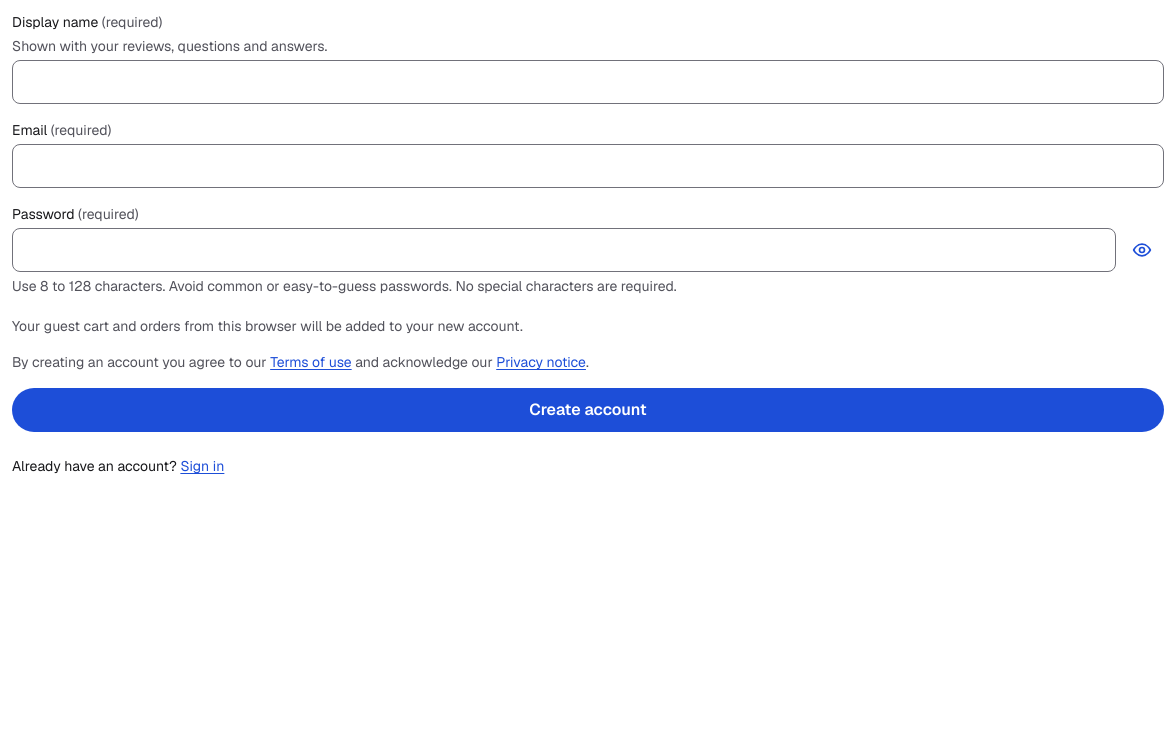
Test: SignUpForm interactions › TOO_MANY_ATTEMPTS shows the R-10 text
The image size is (1176, 732).
Step 1. Type "Ada" into the field labelled "Display name (required)" → [588, 82], box [12, 60, 1164, 104]
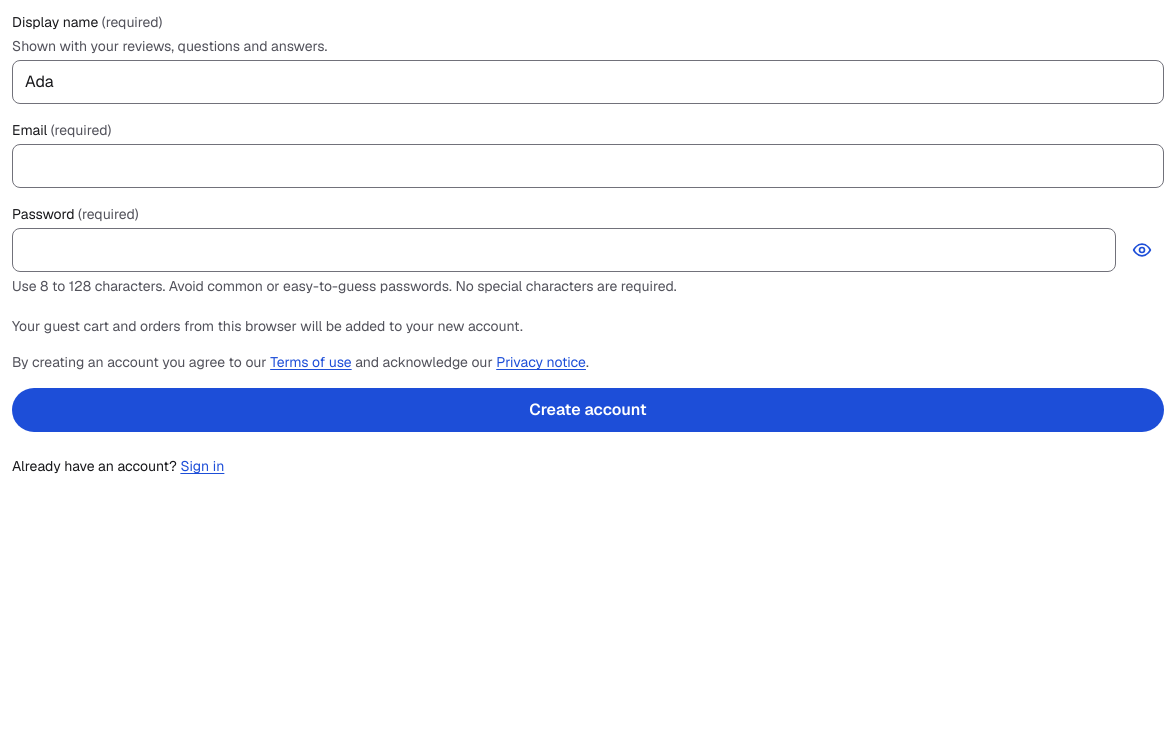
Step 2. Type "ada@example.com" into the field labelled "Email (required)" → [588, 166], box [12, 144, 1164, 188]
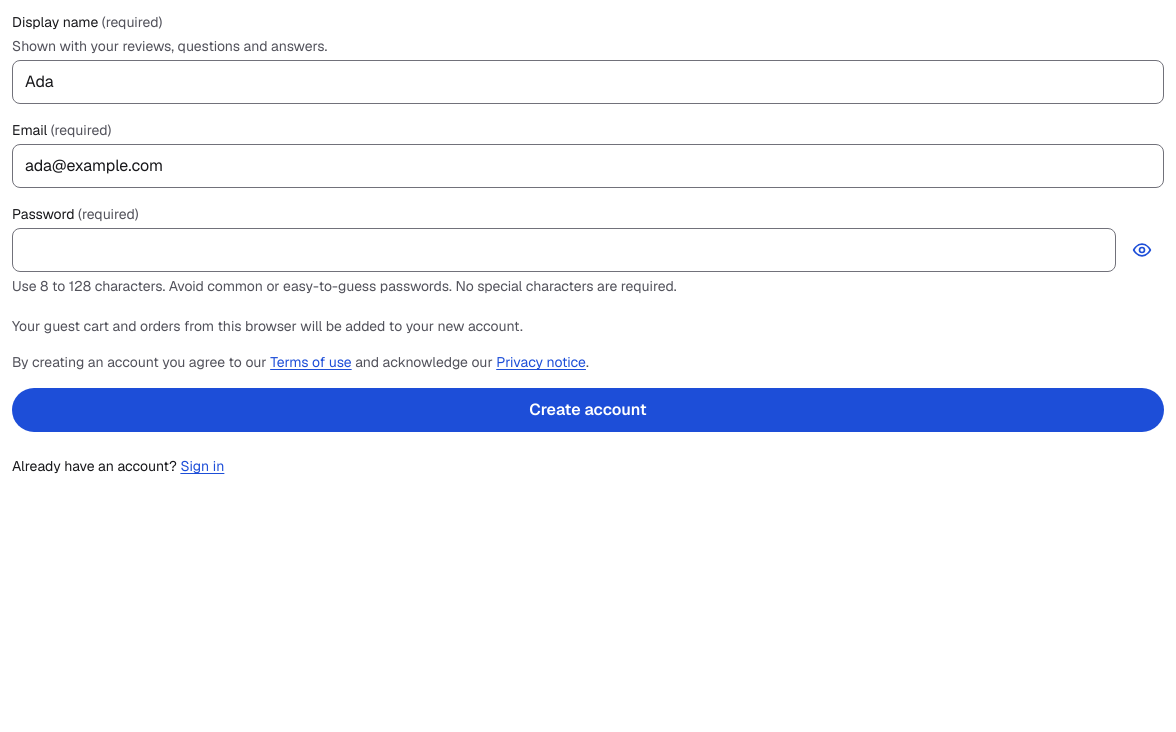
Step 3. Type "quiet birch lantern" into the password field labelled "Password (required)" → [564, 250], box [12, 228, 1116, 272]
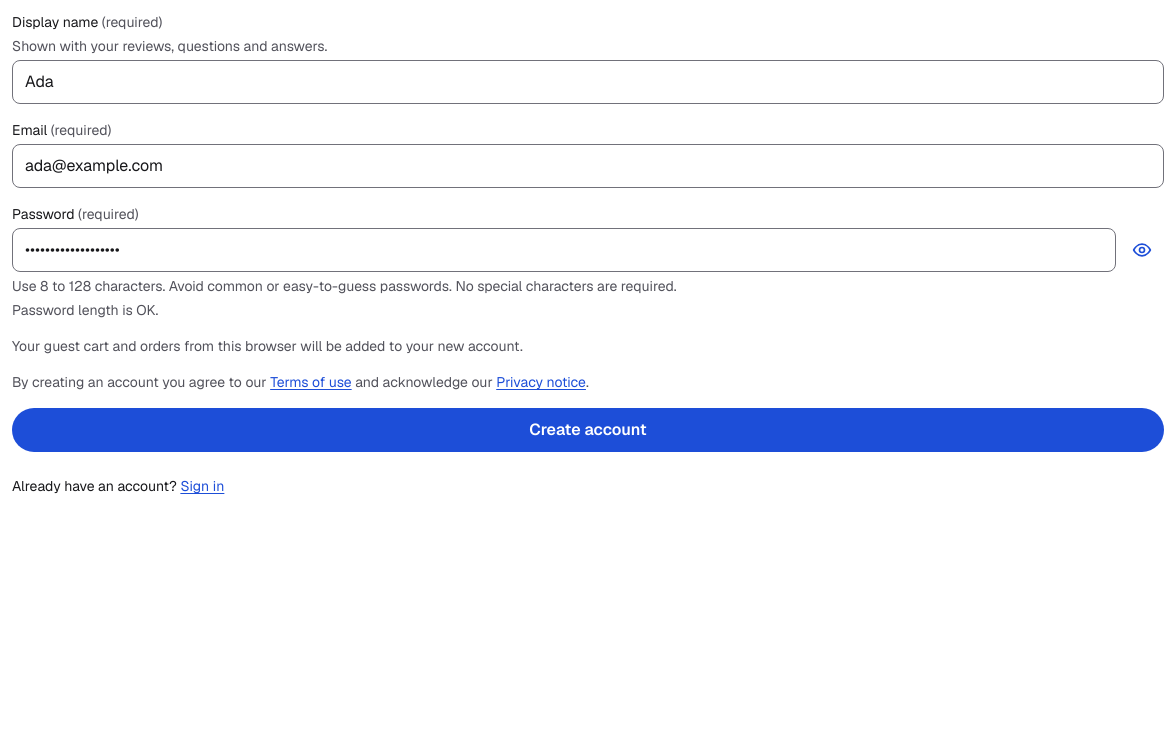
Step 4. Submit the form with id "signup-form", box [12, 12, 1164, 452]
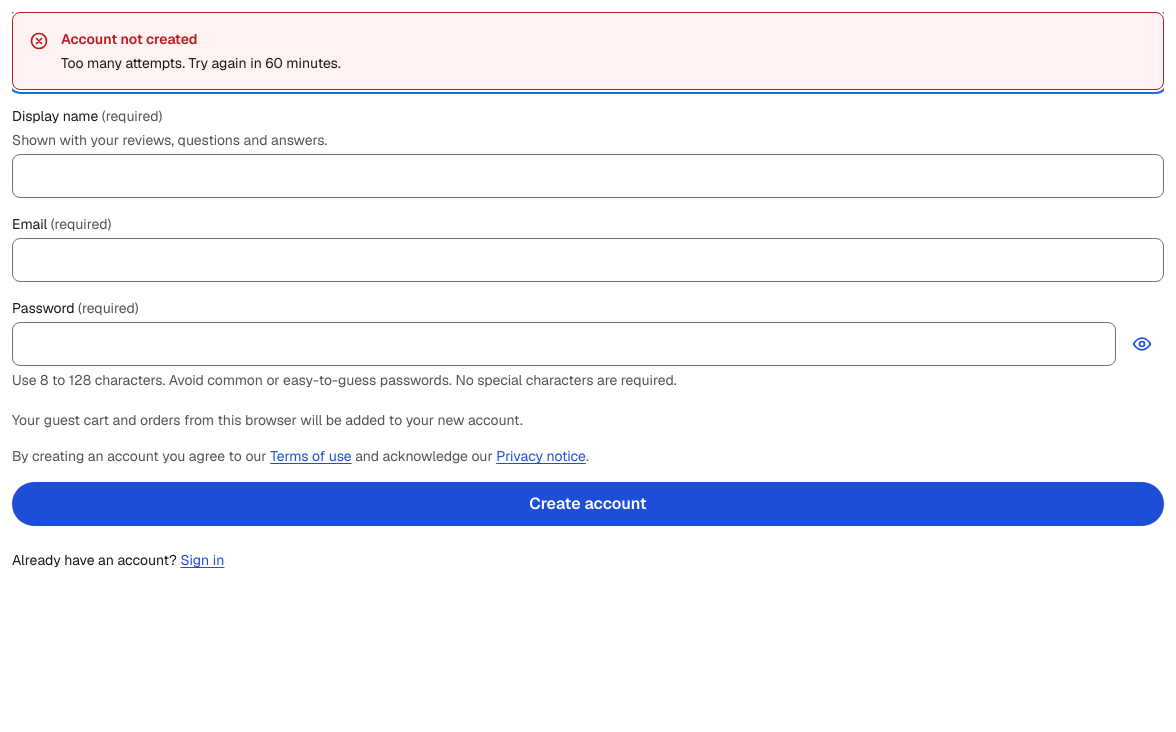
Result: the message with test id "signup-error-summary" shows "Too many attempts. Try again in 60 minutes." at [61, 54, 341, 72]
